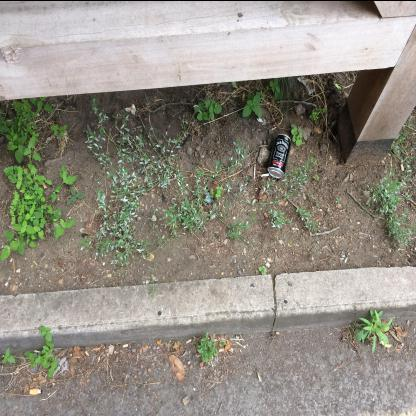metal: (269, 134, 293, 180)
